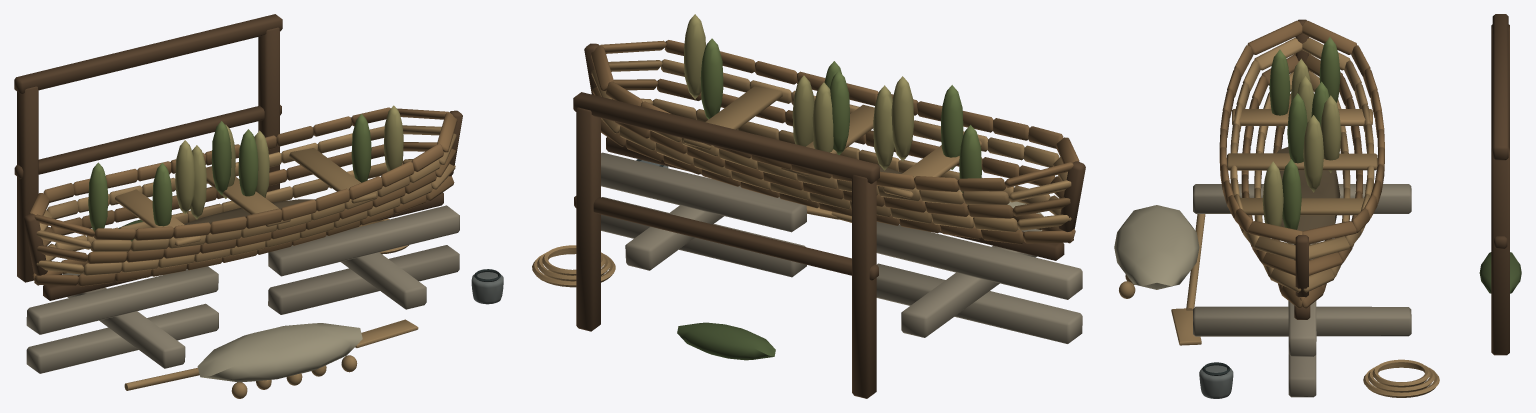
File: skiff_on_blocks_c.glb
3 renders of one model, left to right at view 1: azimuth 30°, elevation 25°; view 2: azimuth 150°, elevation 25°; view 3: azimuth 270°, elevation 25°, orthographic. The views are drawn at different scales.
Visible parts, largest first — view 1: Surface; view 2: Surface; view 3: Surface.
Part boxes in pixels (bbox=[...]): Surface: bbox=[14, 14, 503, 398]; Surface: bbox=[532, 14, 1085, 398]; Surface: bbox=[1114, 14, 1521, 398].
Bounding box in the file's own units: 7.93 × 3.52 × 6.16.
